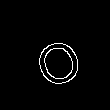O_NW: (25, 23, 85, 87)
